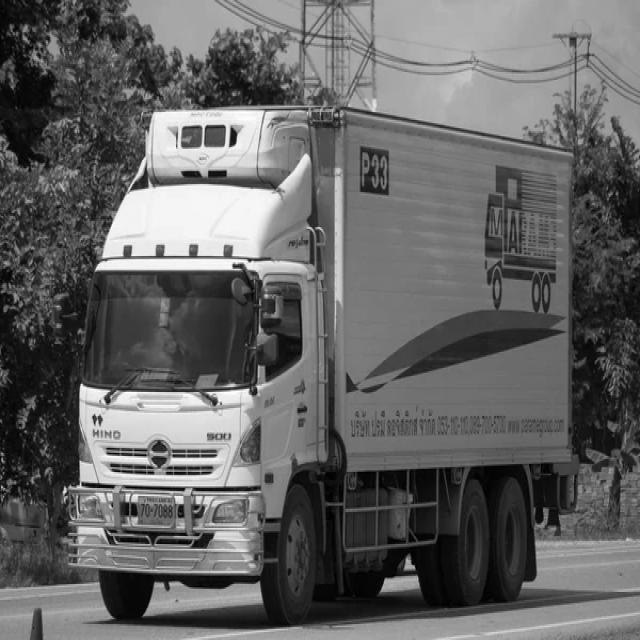Truck: (70, 107, 580, 625)
